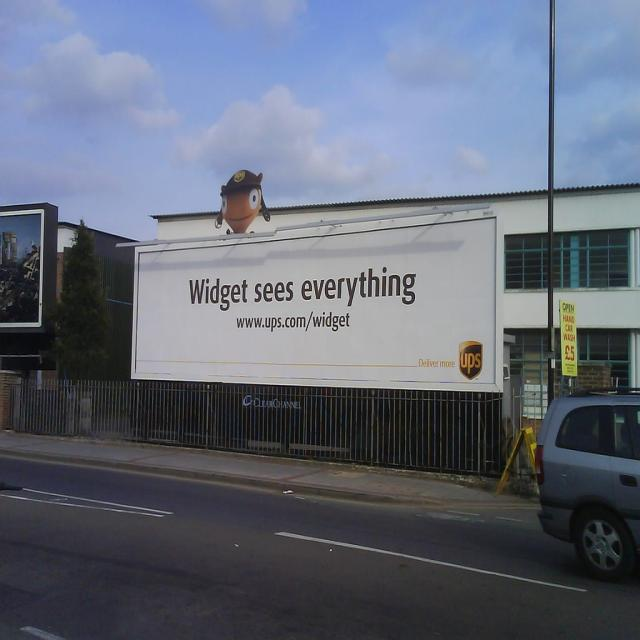ups: (458, 341, 484, 380)
